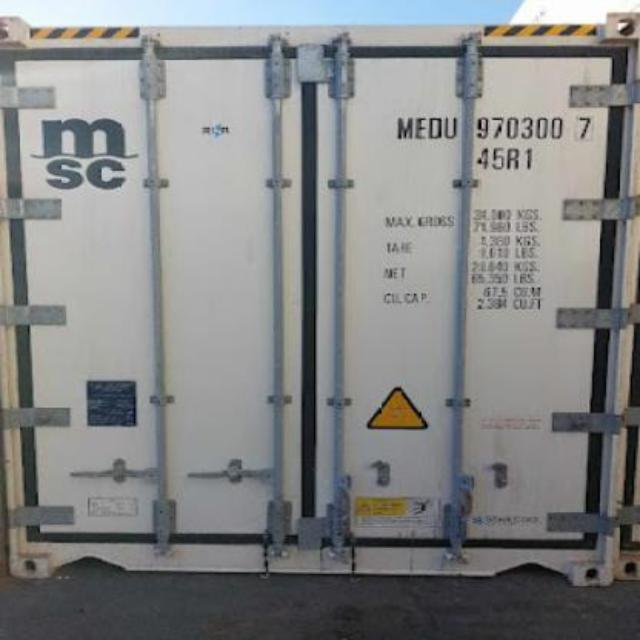0: (506, 116, 520, 140), (536, 115, 548, 142), (552, 115, 564, 141)
3: (522, 112, 534, 142)
7: (576, 114, 594, 142), (491, 115, 504, 141)
9: (476, 115, 489, 139)
D: (428, 116, 442, 140)
E: (416, 116, 428, 140)
M: (396, 116, 414, 140)
U: (444, 115, 458, 141)
